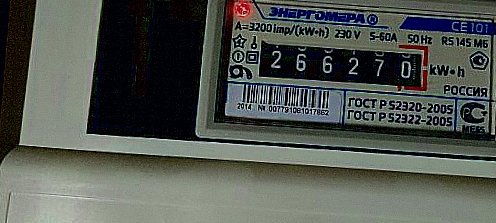0: (398, 58, 412, 79)
2: (267, 48, 284, 69), (345, 54, 361, 75)
6: (293, 50, 308, 72), (320, 53, 335, 74)
7: (371, 56, 384, 76)
screen: (248, 28, 436, 96)
